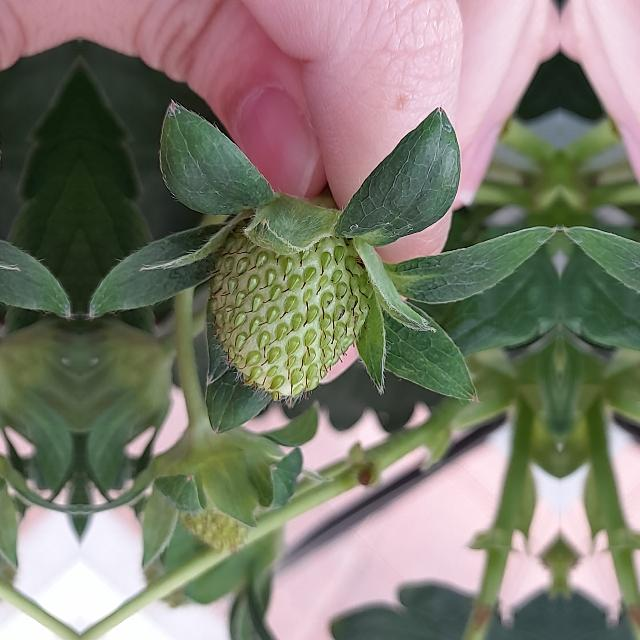Health_25: (203, 210, 374, 408)
